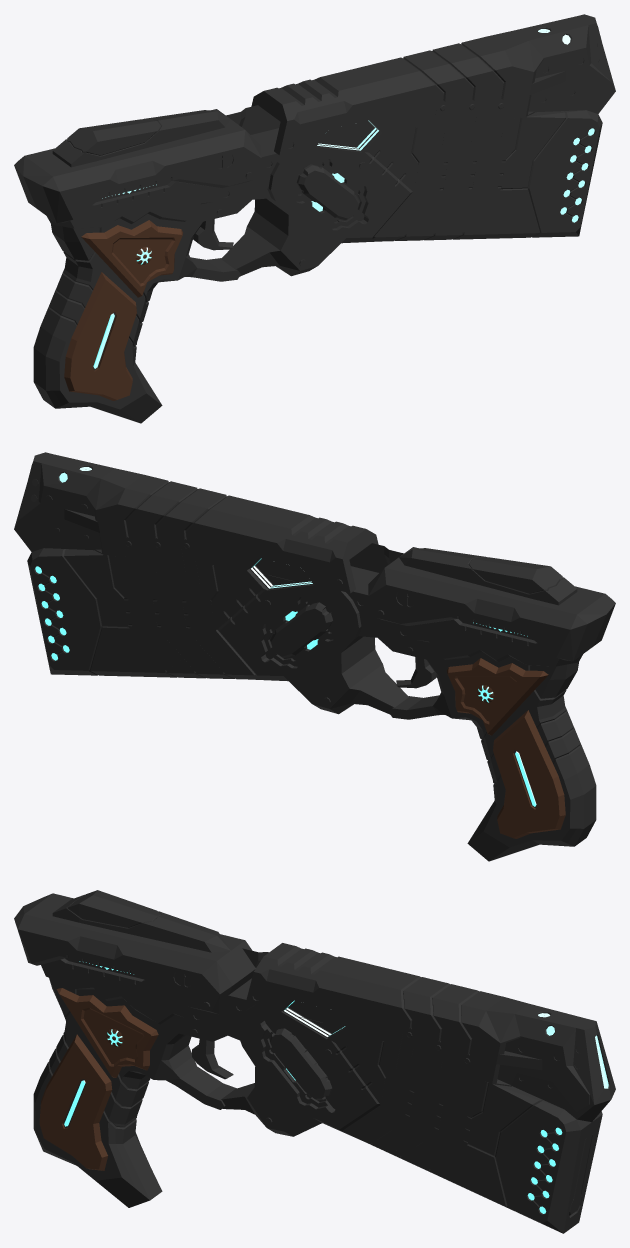
File: low-poly_cerevo_dominator_paralyzer.glb
The picture shows the model from 3 angles, top to bottom: view 1: azimuth 30°, elevation 25°; view 2: azimuth 150°, elevation 25°; view 3: azimuth 330°, elevation 25°; orthographic projection.
Visible parts, largest first — view 1: Object_4, Object_24, Object_7; view 2: Object_4, Object_24, Object_7; view 3: Object_4, Object_24, Object_7.
Part boxes in pixels (box(x1,y1,x2,y2)): Object_4: box(14, 14, 615, 423); Object_24: box(64, 220, 182, 400); Object_7: box(93, 29, 594, 368); Object_4: box(14, 452, 615, 861); Object_24: box(447, 658, 565, 838); Object_7: box(35, 467, 536, 806); Object_4: box(14, 890, 615, 1233); Object_24: box(39, 988, 158, 1170); Object_7: box(64, 961, 608, 1213).
Bounding box in the file's own units: 3.89 × 1.89 × 0.4998.
